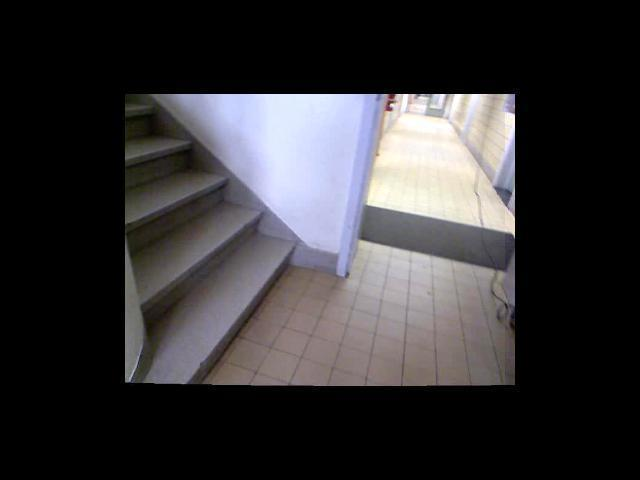Escaleras: (127, 104, 297, 371)
